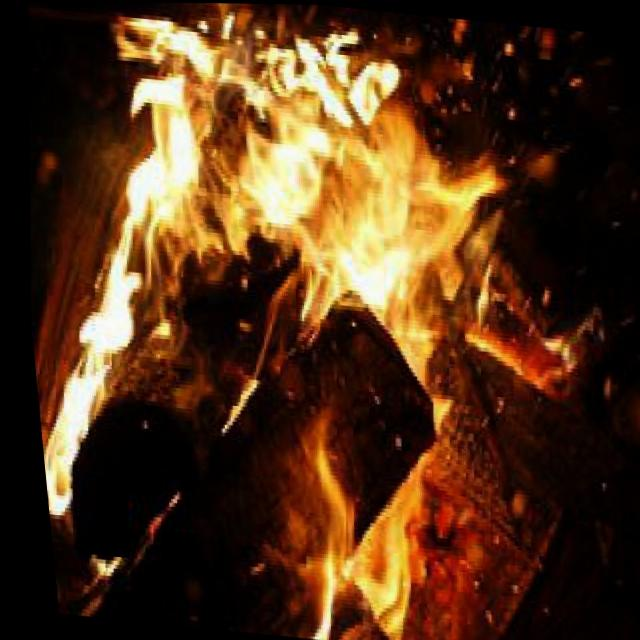helmet: (0, 0, 626, 640)
